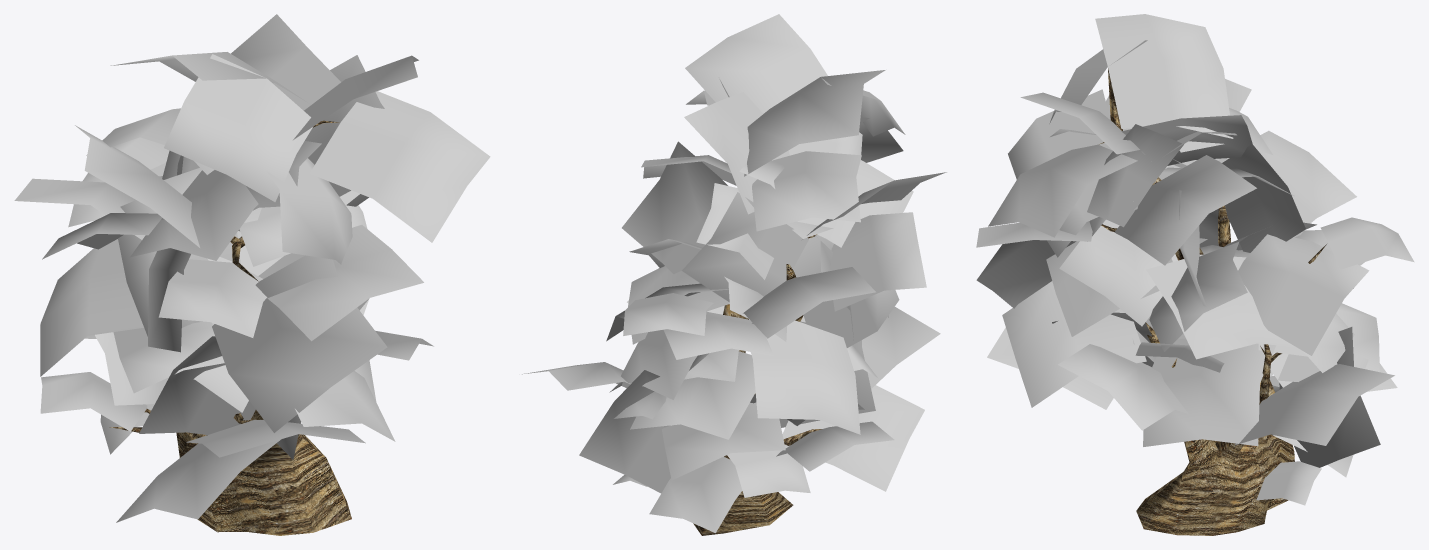
Rendered from tree2.fbx.
3 renders of one model, left to right at view 1: azimuth 30°, elevation 25°; view 2: azimuth 150°, elevation 25°; view 3: azimuth 270°, elevation 25°, orthographic. The views are drawn at different scales.
Parts seen in each view (by area): view 1: leaves2, tree_bark2; view 2: leaves2, tree_bark2; view 3: leaves2, tree_bark2.
Boxes of the visible parts, x1,y1,x2,y2 form: leaves2: (14, 14, 490, 522); tree_bark2: (109, 120, 351, 535); leaves2: (522, 14, 946, 533); tree_bark2: (693, 234, 821, 535); leaves2: (976, 14, 1414, 505); tree_bark2: (1099, 68, 1326, 535).
Bounding box in the file's own units: 34.39 × 40.43 × 36.56.
